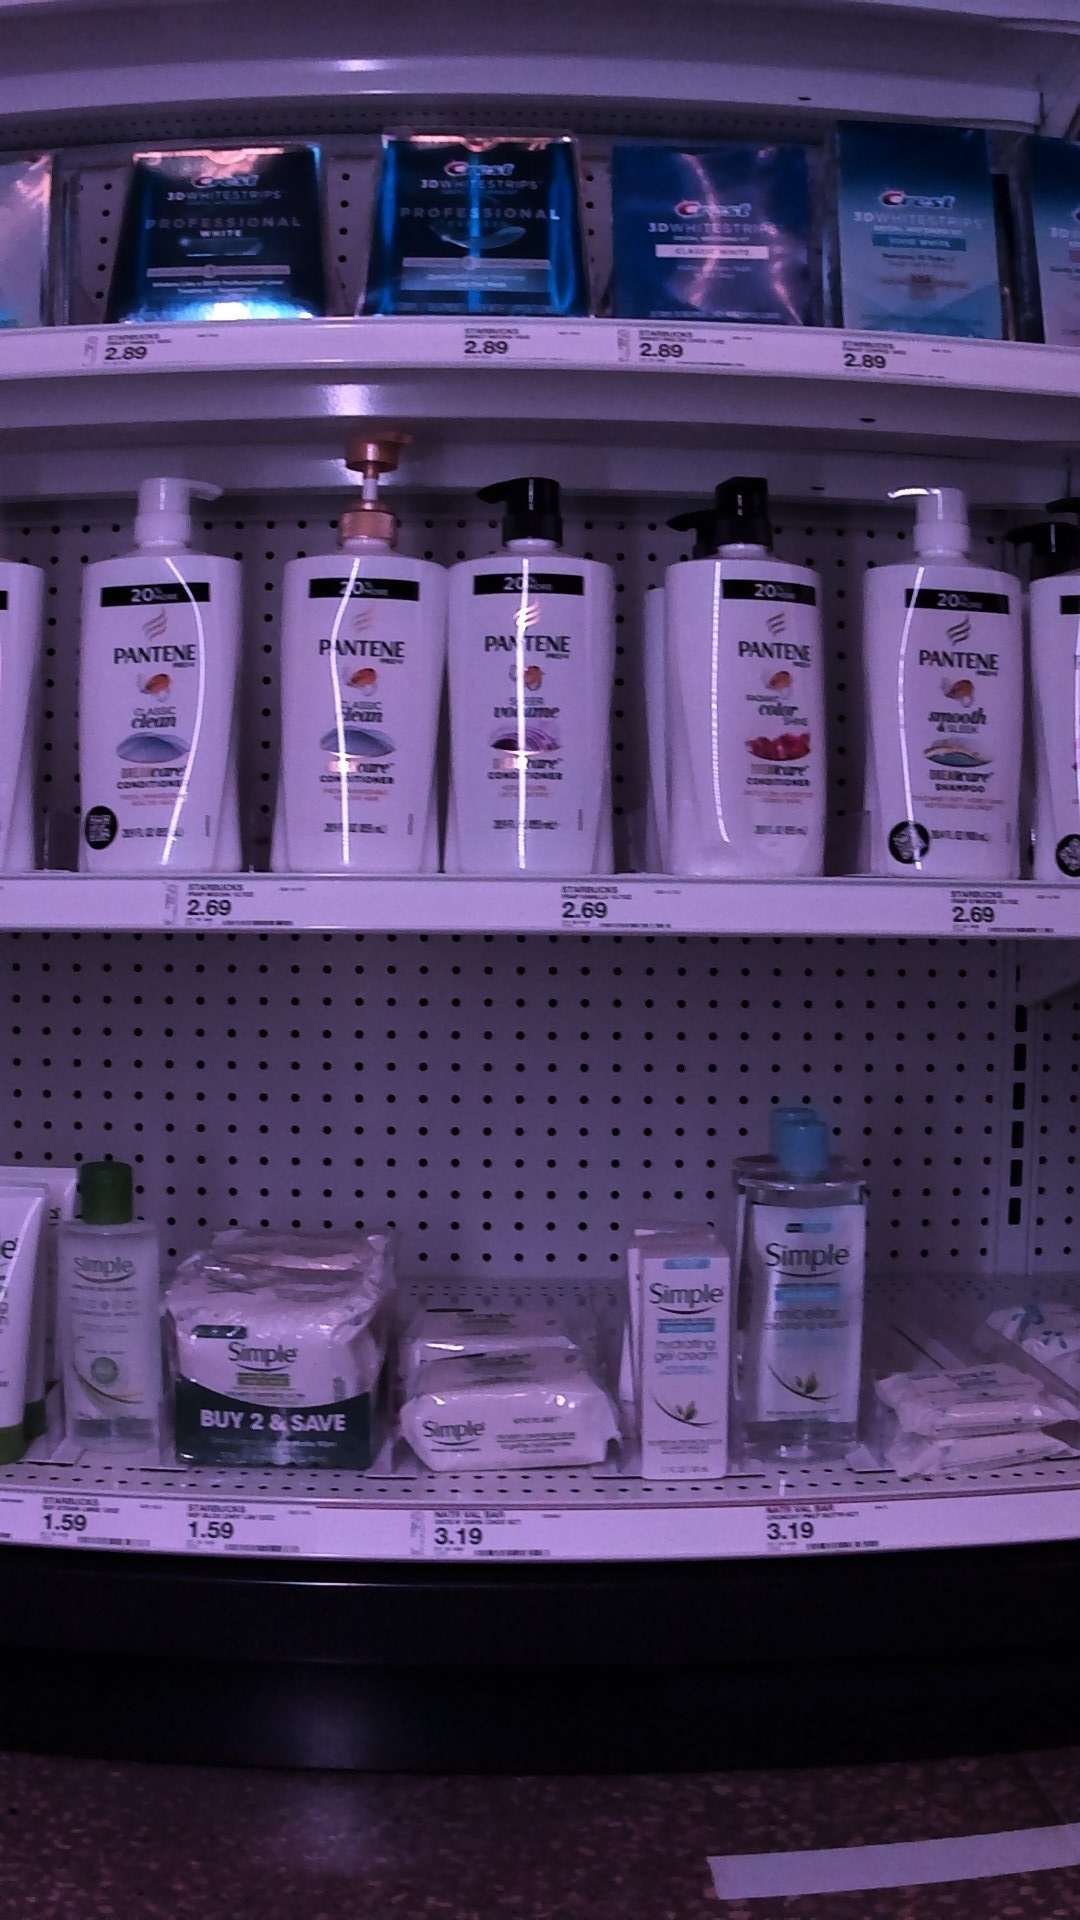ptag: (179, 1491, 315, 1564), (162, 872, 313, 935), (429, 1497, 560, 1567), (940, 882, 1069, 945), (837, 328, 963, 392), (40, 1491, 164, 1555), (451, 313, 582, 371), (553, 877, 682, 935), (762, 1497, 891, 1555), (618, 320, 753, 375), (95, 324, 208, 373)
